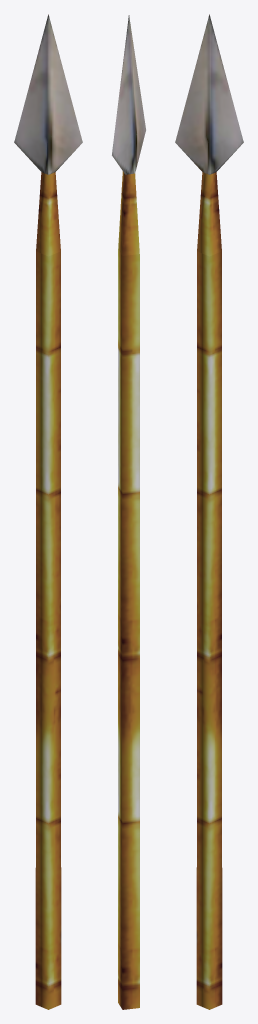
Rendered from spear_bamboo.dae.
The picture shows the model from 3 angles, left to right: view 1: azimuth 90°, elevation 25°; view 2: azimuth 150°, elevation 25°; view 3: azimuth 270°, elevation 25°; orthographic projection.
Parts seen in each view (by area): view 1: spear_bamboo_1; view 2: spear_bamboo_1; view 3: spear_bamboo_1.
Part boxes in pixels (<box>): spear_bamboo_1: <box>14,14,82,1009</box>; spear_bamboo_1: <box>112,15,145,1009</box>; spear_bamboo_1: <box>175,14,243,1009</box>.
Bounding box in the file's own units: 0.0988 × 4.27 × 0.2673.
